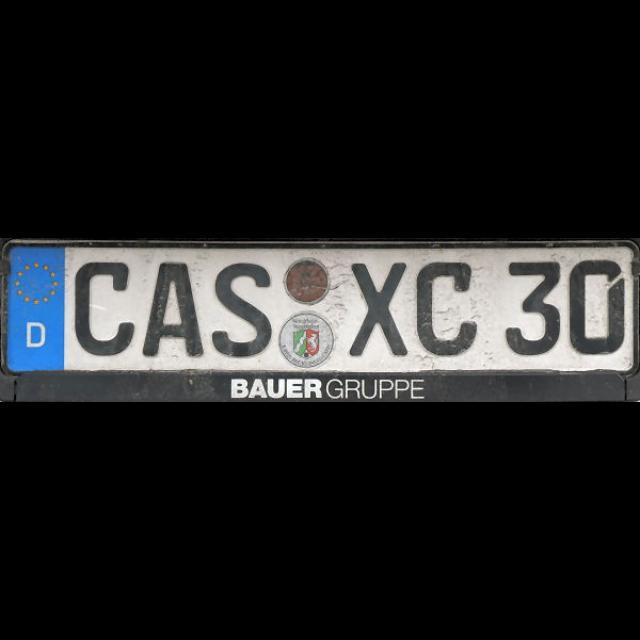license-plates: (0, 240, 640, 402)
